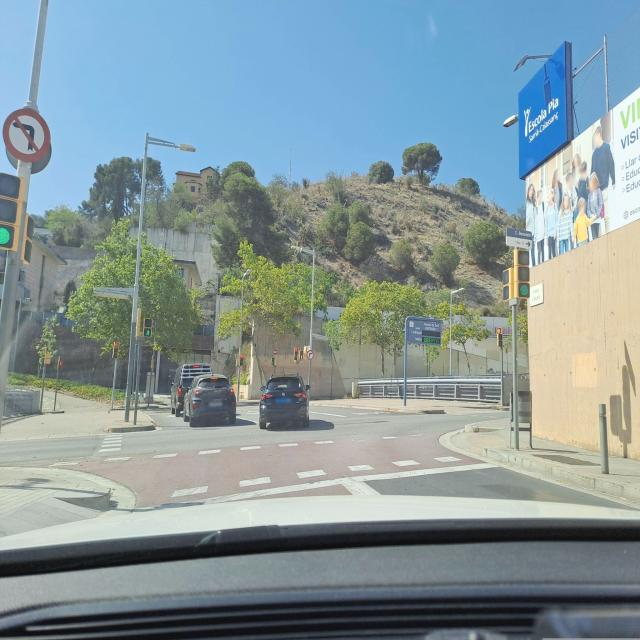car: (258, 374, 310, 429), (183, 375, 237, 426), (170, 366, 212, 416)
